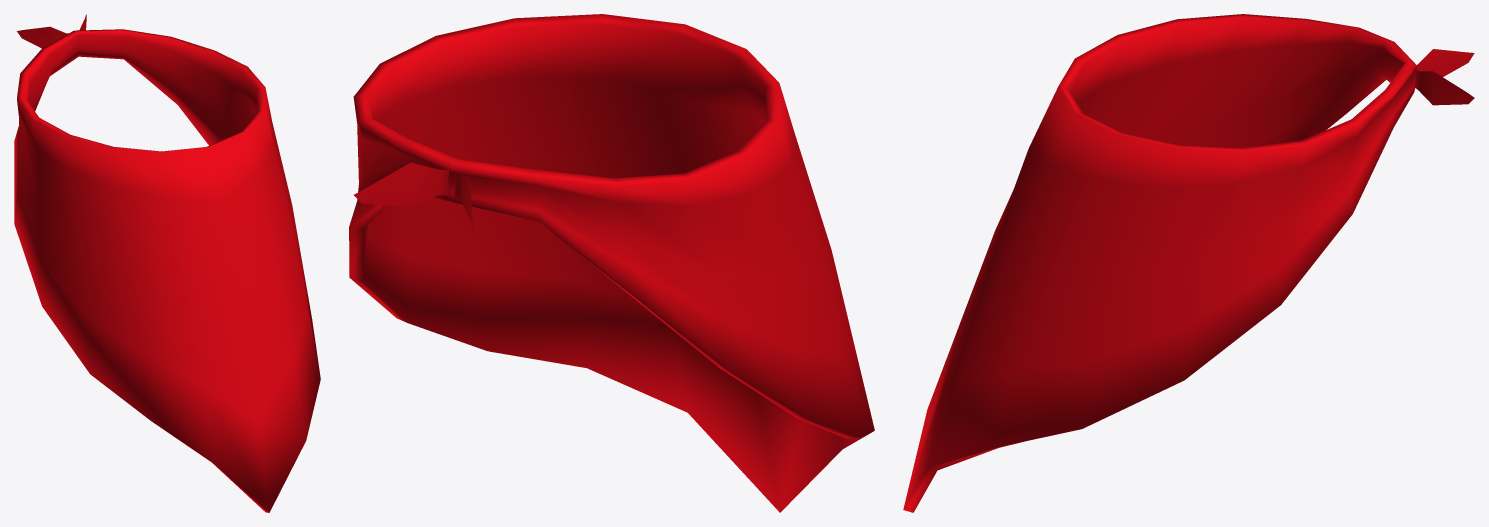
The model's file is BANDANA.glb.
3 views of the same model, side by side, from view 1: azimuth 30°, elevation 25°; view 2: azimuth 150°, elevation 25°; view 3: azimuth 270°, elevation 25° (orthographic). The views are drawn at different scales.
Parts seen in each view (by area): view 1: BANDANA; view 2: BANDANA; view 3: BANDANA.
Boxes of the visible parts, x1,y1,x2,y2 form: BANDANA: (14,14,320,512); BANDANA: (349,14,874,512); BANDANA: (903,14,1474,512).
Size of the model in its own units: 2 by 2.74 by 3.14.
